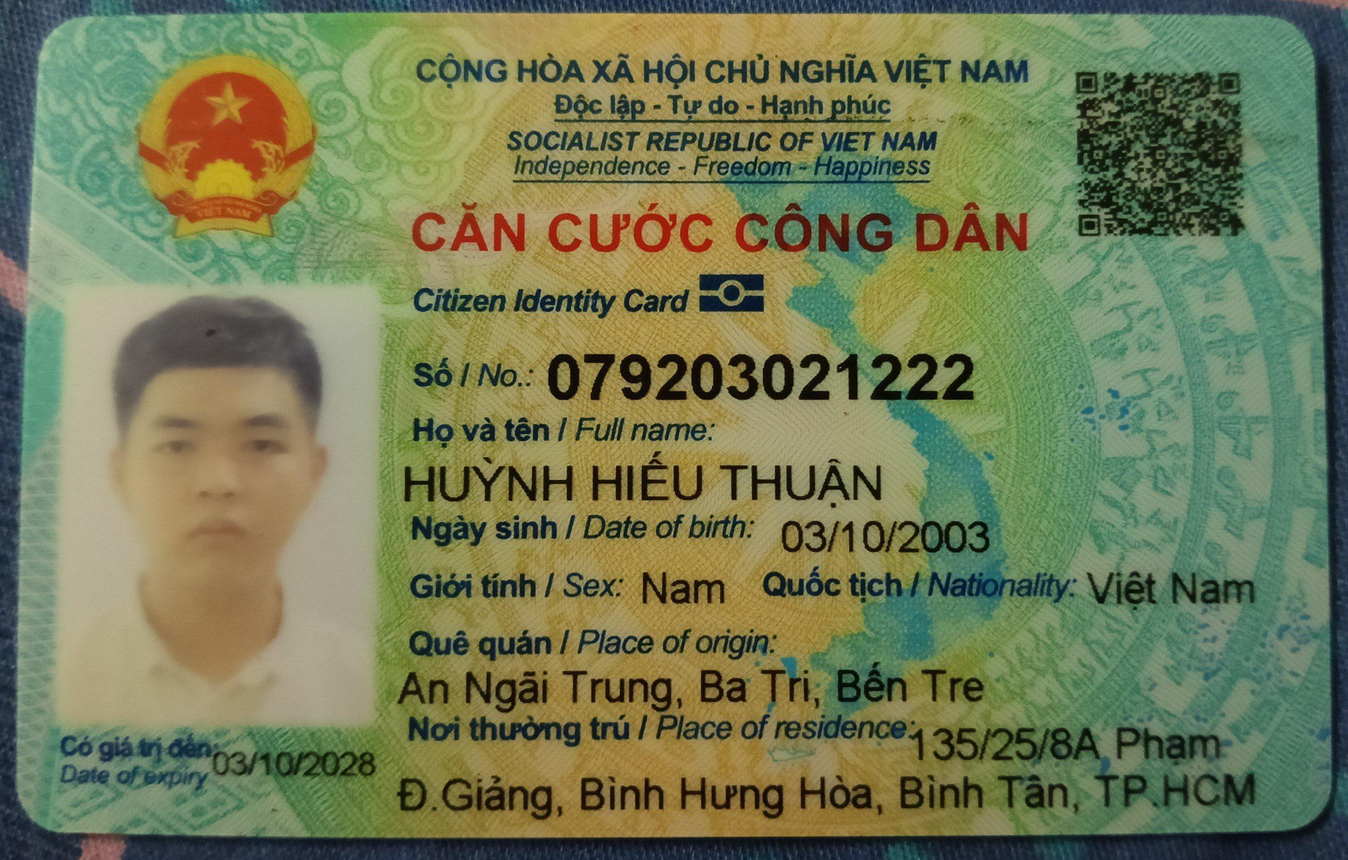ID: (535, 335, 984, 412)
birth: (774, 511, 1001, 565)
name: (386, 451, 896, 512)
place: (386, 656, 1005, 713)
residence: (381, 765, 1272, 835), (909, 716, 1237, 769)
